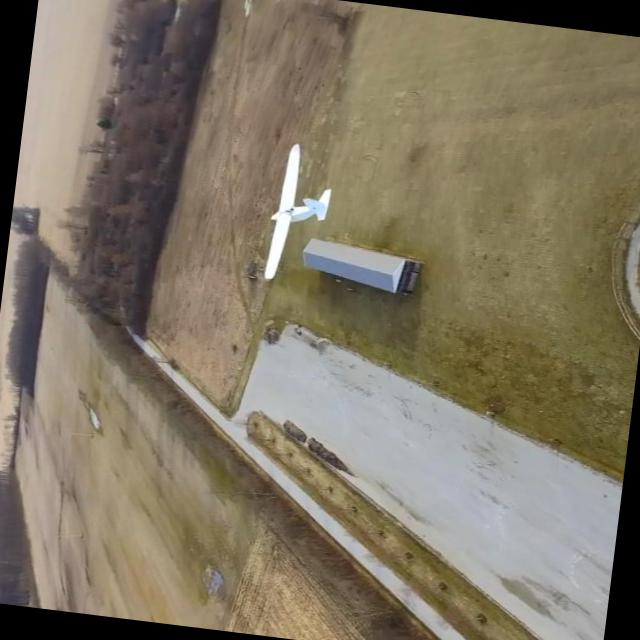UAV: (246, 134, 344, 278)
